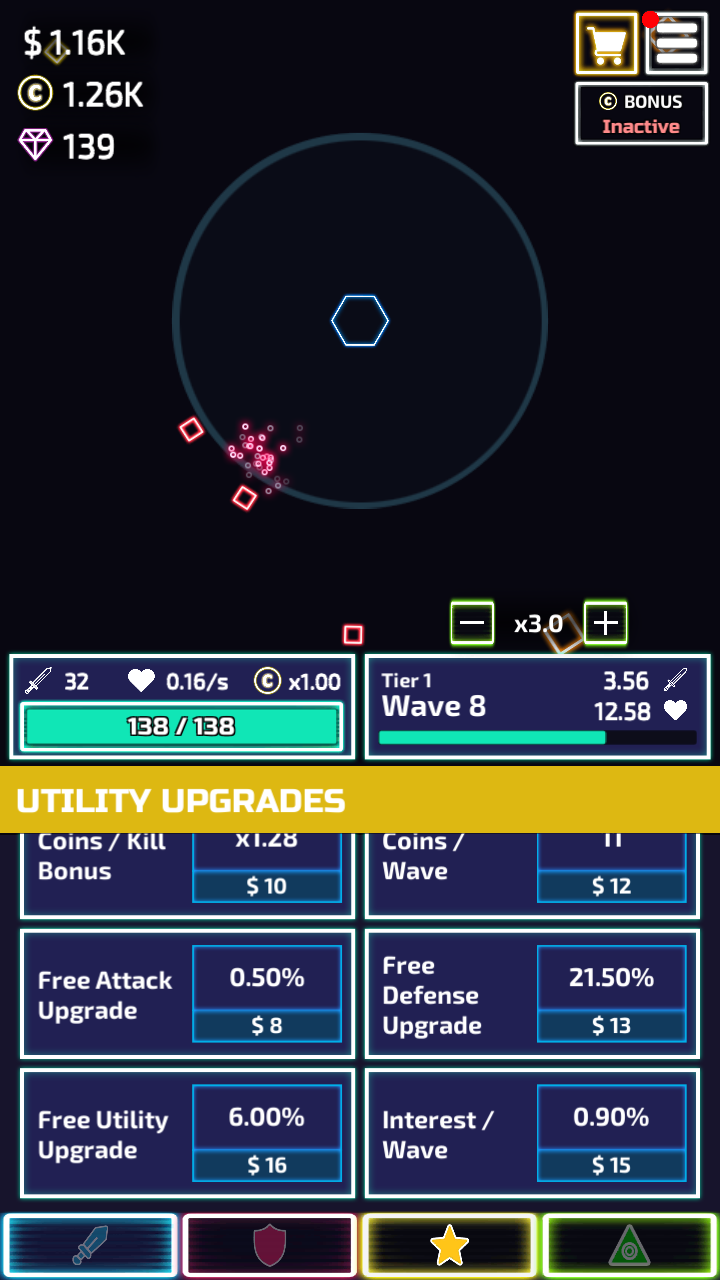B_Menu_Action_Required: (634, 7, 709, 73)
B_Menu_Closed: (568, 9, 712, 73)
B_Slot: (365, 926, 694, 1054), (20, 1070, 351, 1196), (365, 1070, 693, 1195), (18, 935, 356, 1056), (18, 824, 354, 910), (369, 830, 696, 913)
B_Slot_Button: (196, 1084, 344, 1182), (532, 1091, 684, 1184), (536, 944, 682, 1040), (192, 947, 336, 1041), (187, 828, 342, 901), (532, 833, 689, 899)
B_Slot_Label: (372, 947, 488, 1041), (21, 1104, 176, 1173), (25, 960, 182, 1027), (367, 1098, 502, 1170), (25, 828, 173, 890), (370, 821, 470, 892)
B_Slot_Price: (230, 1148, 303, 1186), (575, 1145, 639, 1182), (571, 863, 634, 899), (228, 867, 303, 897), (575, 1009, 641, 1036), (237, 1008, 292, 1040)
B_Slot_Value: (545, 954, 671, 997), (212, 956, 320, 993), (557, 1100, 666, 1136), (212, 1098, 315, 1130), (214, 819, 306, 851), (577, 826, 627, 858)
B_Tab_Utility: (0, 764, 720, 828)
